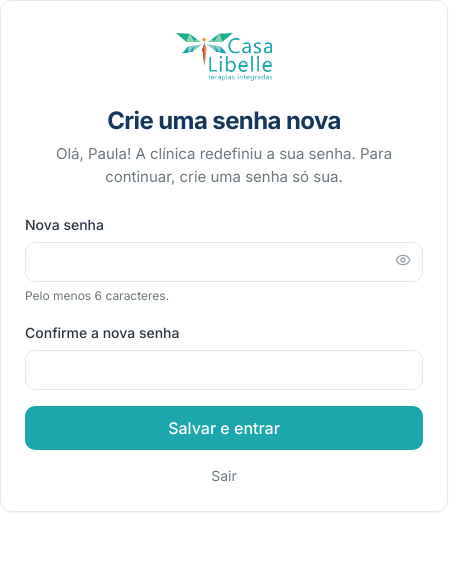
Test: a tela "Crie uma senha nova" › não deixa repetir a senha provisória
Type "libelle-111111" into the password field labelled "Nova senha". click: (224, 262)
box: x1=25 y1=242 x2=423 y2=282
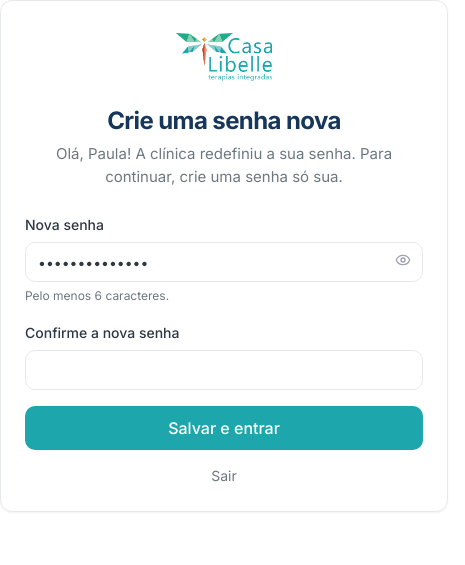
Type "libelle-111111" into the password field labelled "Confirme a nova senha". click: (224, 370)
box: x1=25 y1=350 x2=423 y2=390
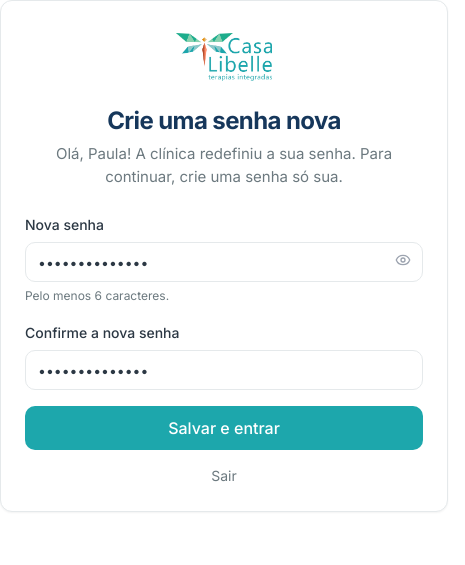
Click the button "Salvar e entrar". click: click(224, 428)
box: x1=25 y1=406 x2=423 y2=450
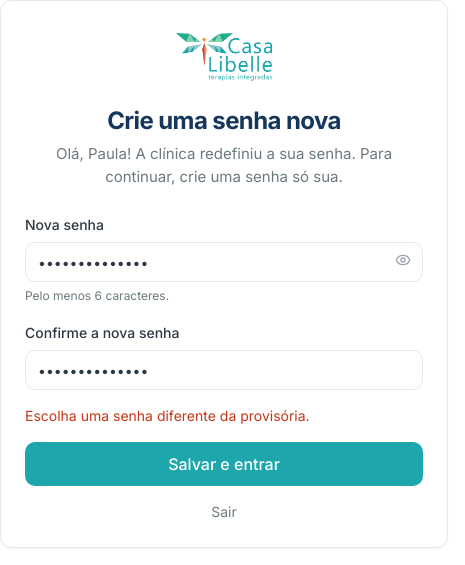
expect the text "Escolha uma senha diferente da provisória." is shown: met, box x1=25 y1=407 x2=310 y2=424
